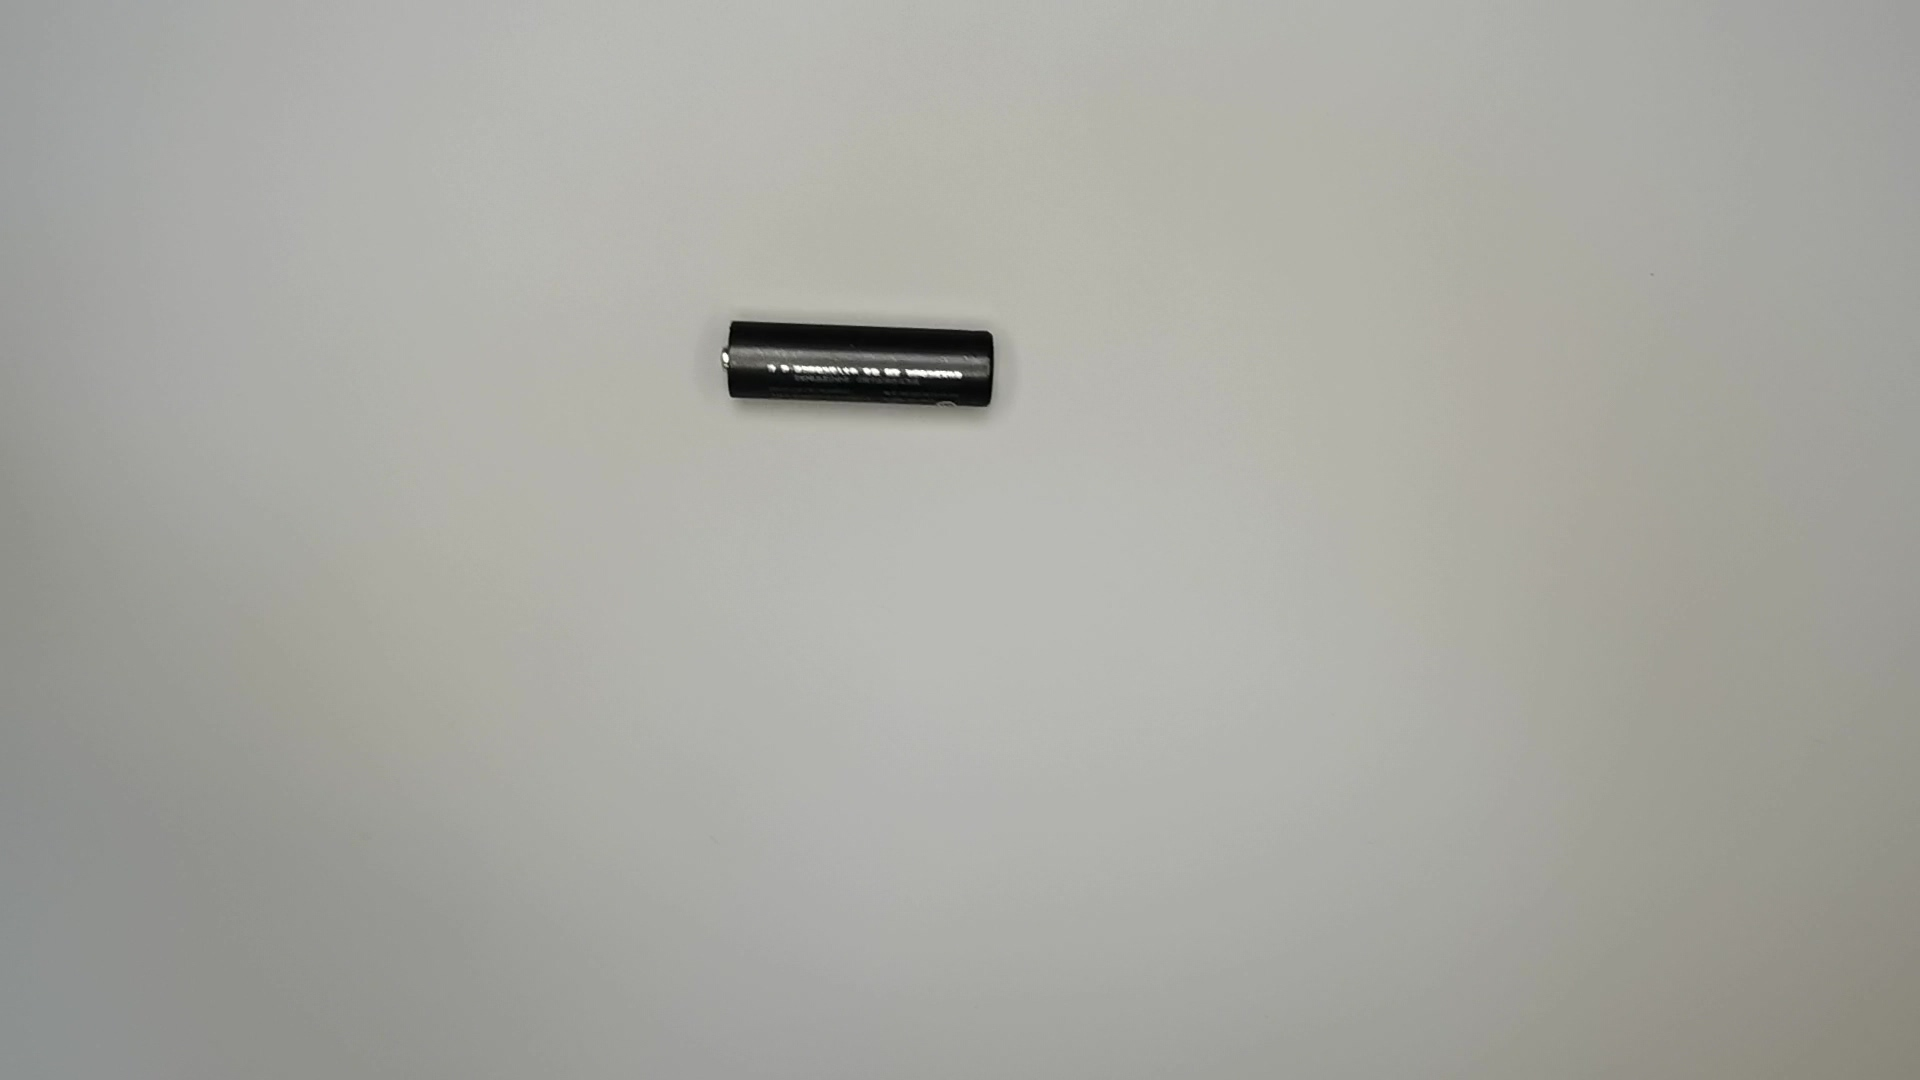battery: (717, 305, 1004, 415)
